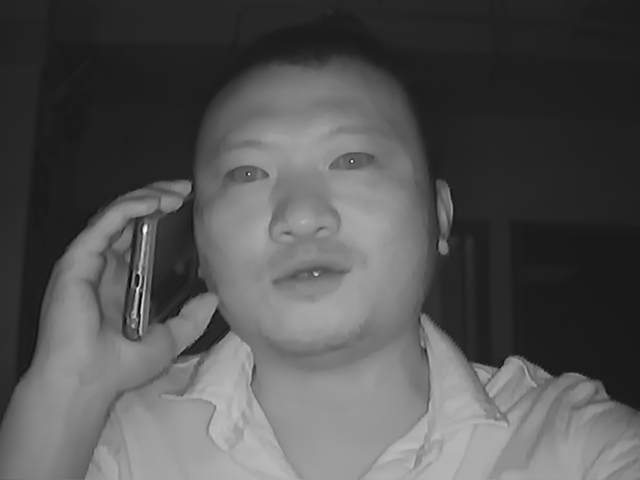hand: (46, 170, 197, 382)
